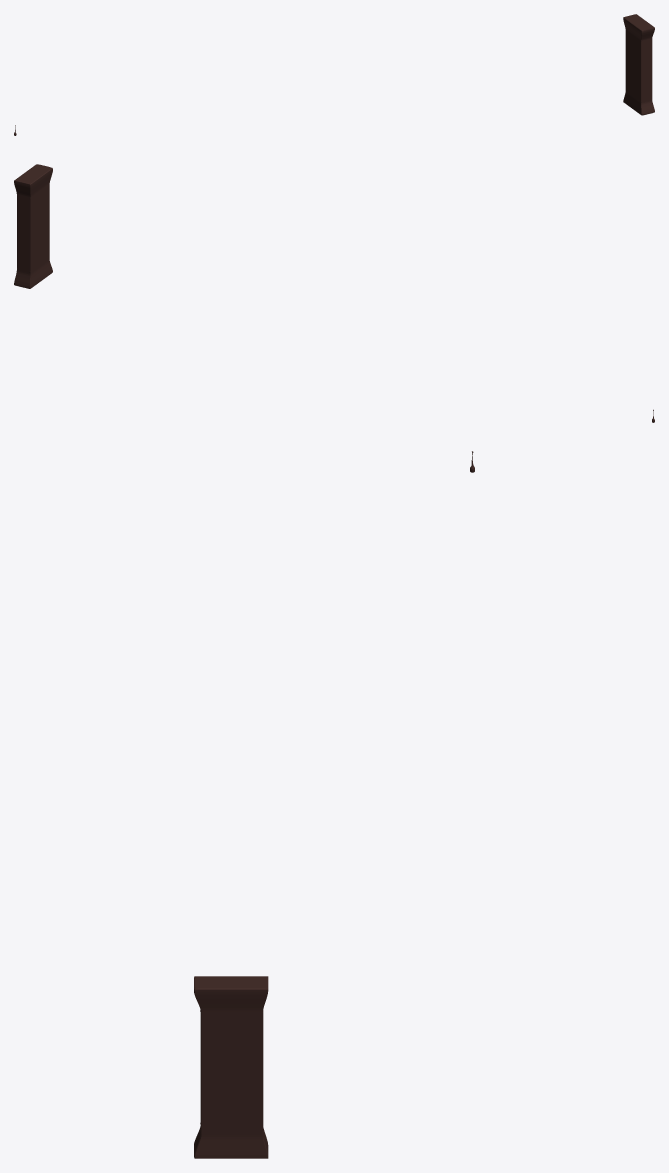
The model's file is OverdriveOrichalchum.fbx.
3 renders of one model, top to bottom at view 1: azimuth 30°, elevation 25°; view 2: azimuth 150°, elevation 25°; view 3: azimuth 270°, elevation 25°, orthographic. The views are drawn at different scales.
Visible parts, largest first — view 1: Cylinder; view 2: Cylinder; view 3: Cylinder.
Part boxes in pixels (<box>): Cylinder: <box>623,14,654,115</box>; Cylinder: <box>14,164,52,288</box>; Cylinder: <box>194,976,268,1158</box>.
Bounding box in the file's own units: 7662 × 1091 × 1633.
